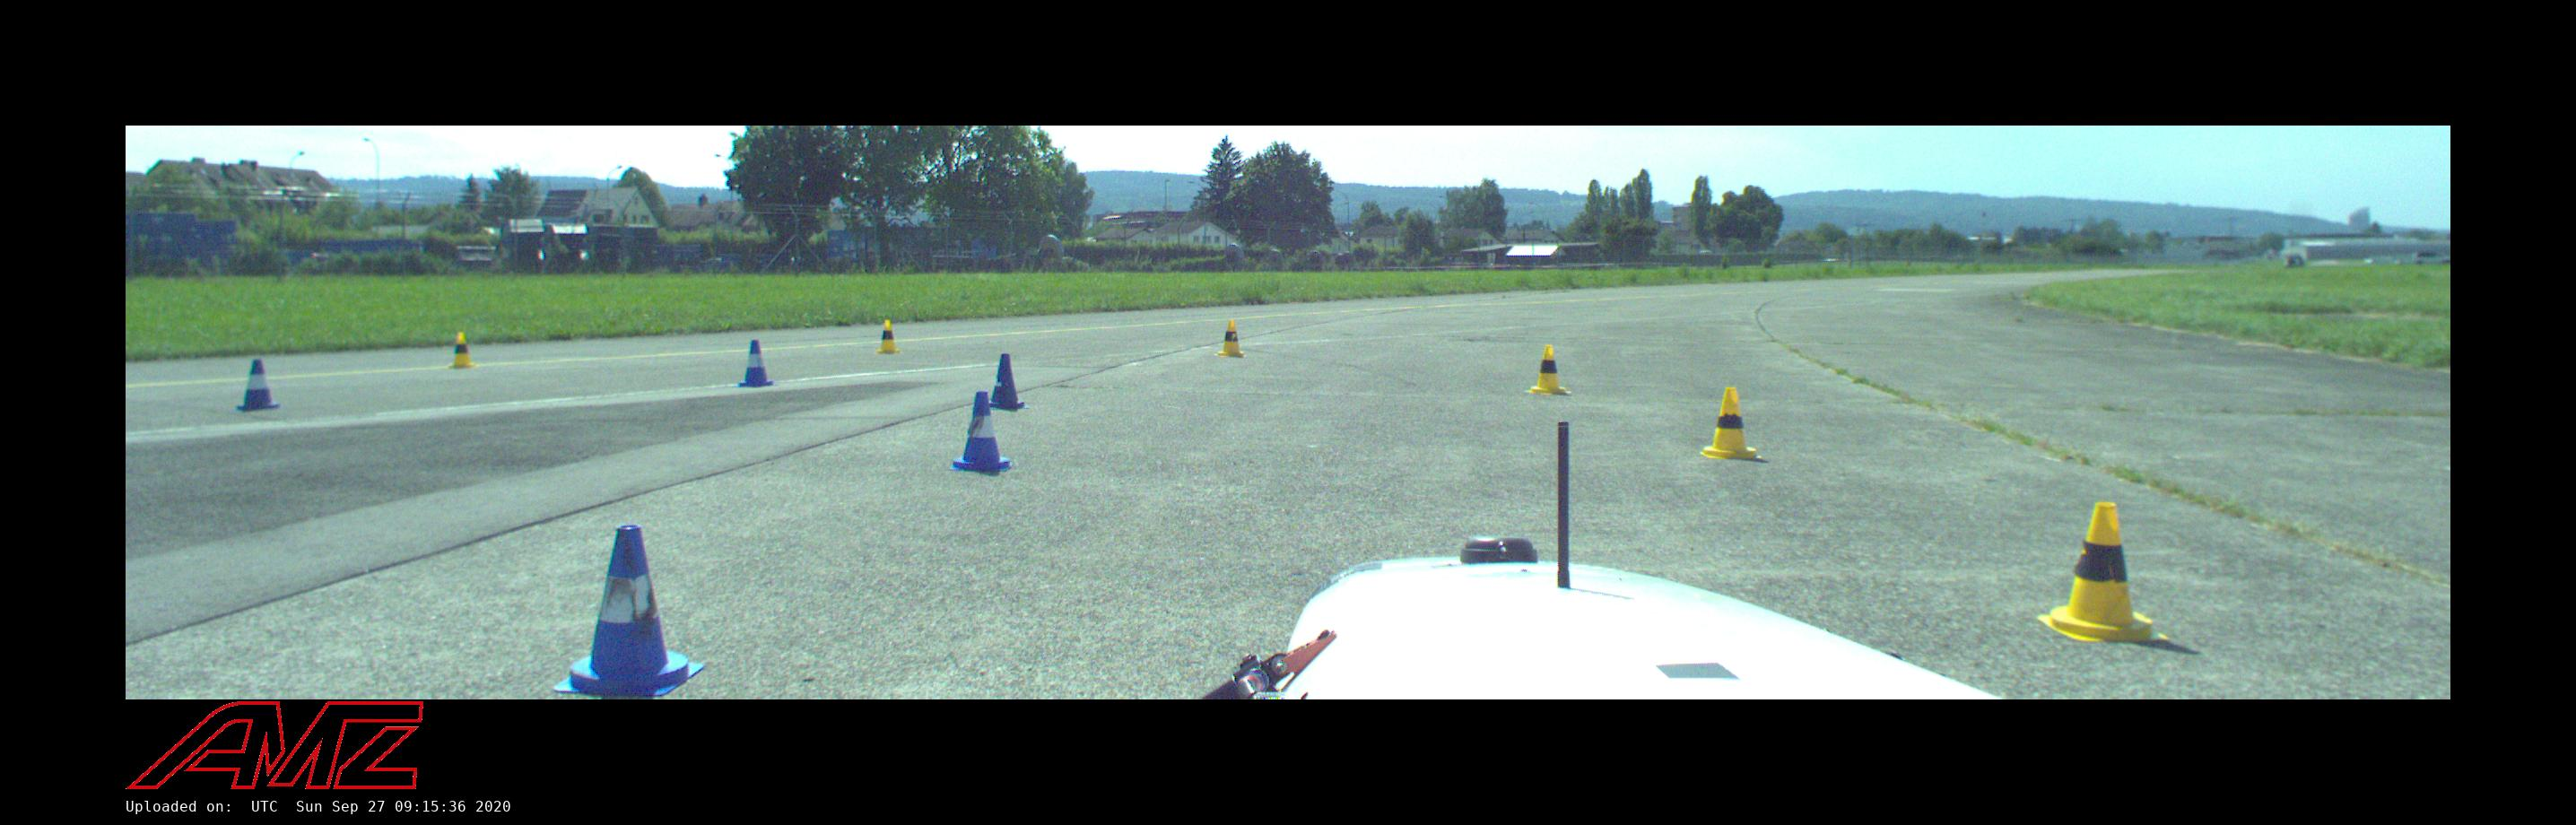blue_cone: (554, 526, 703, 697), (950, 391, 1012, 472), (237, 360, 279, 411), (989, 353, 1027, 409), (736, 340, 775, 386)
yellow_cone: (2037, 503, 2169, 641), (1700, 388, 1761, 459), (1525, 345, 1572, 394), (1216, 320, 1245, 357), (447, 332, 476, 368), (874, 320, 902, 355)
